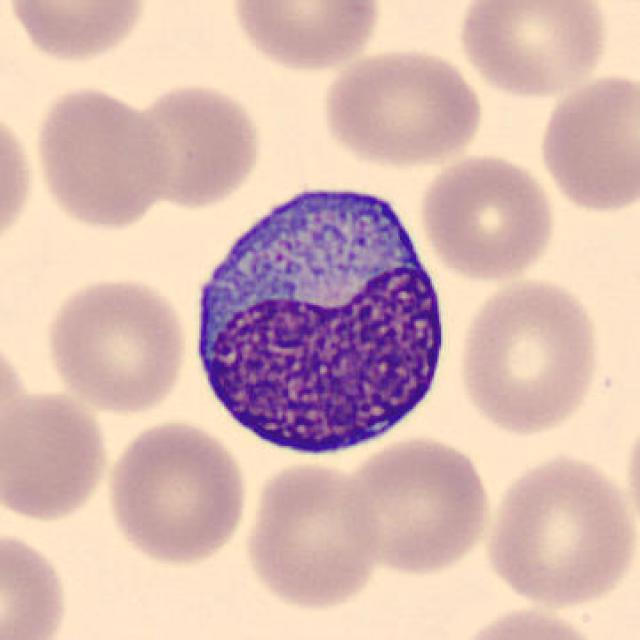Monocyte: (180, 164, 458, 467)
RBC: (480, 448, 636, 612), (454, 274, 604, 438), (338, 432, 496, 578), (101, 416, 252, 568), (240, 458, 384, 614), (30, 81, 174, 233), (39, 273, 192, 416), (317, 44, 487, 169), (124, 77, 265, 212), (416, 150, 558, 284), (453, 0, 615, 102), (2, 384, 114, 526), (534, 69, 638, 217), (225, 0, 388, 74), (4, 0, 151, 65), (0, 525, 73, 640), (448, 603, 613, 640), (0, 98, 37, 257)
